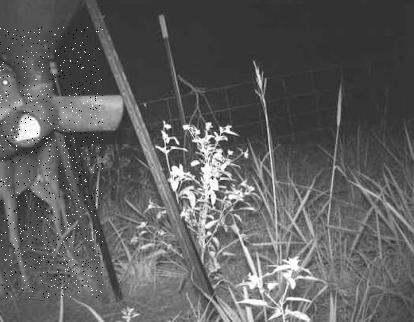Deer: (0, 27, 103, 298)
